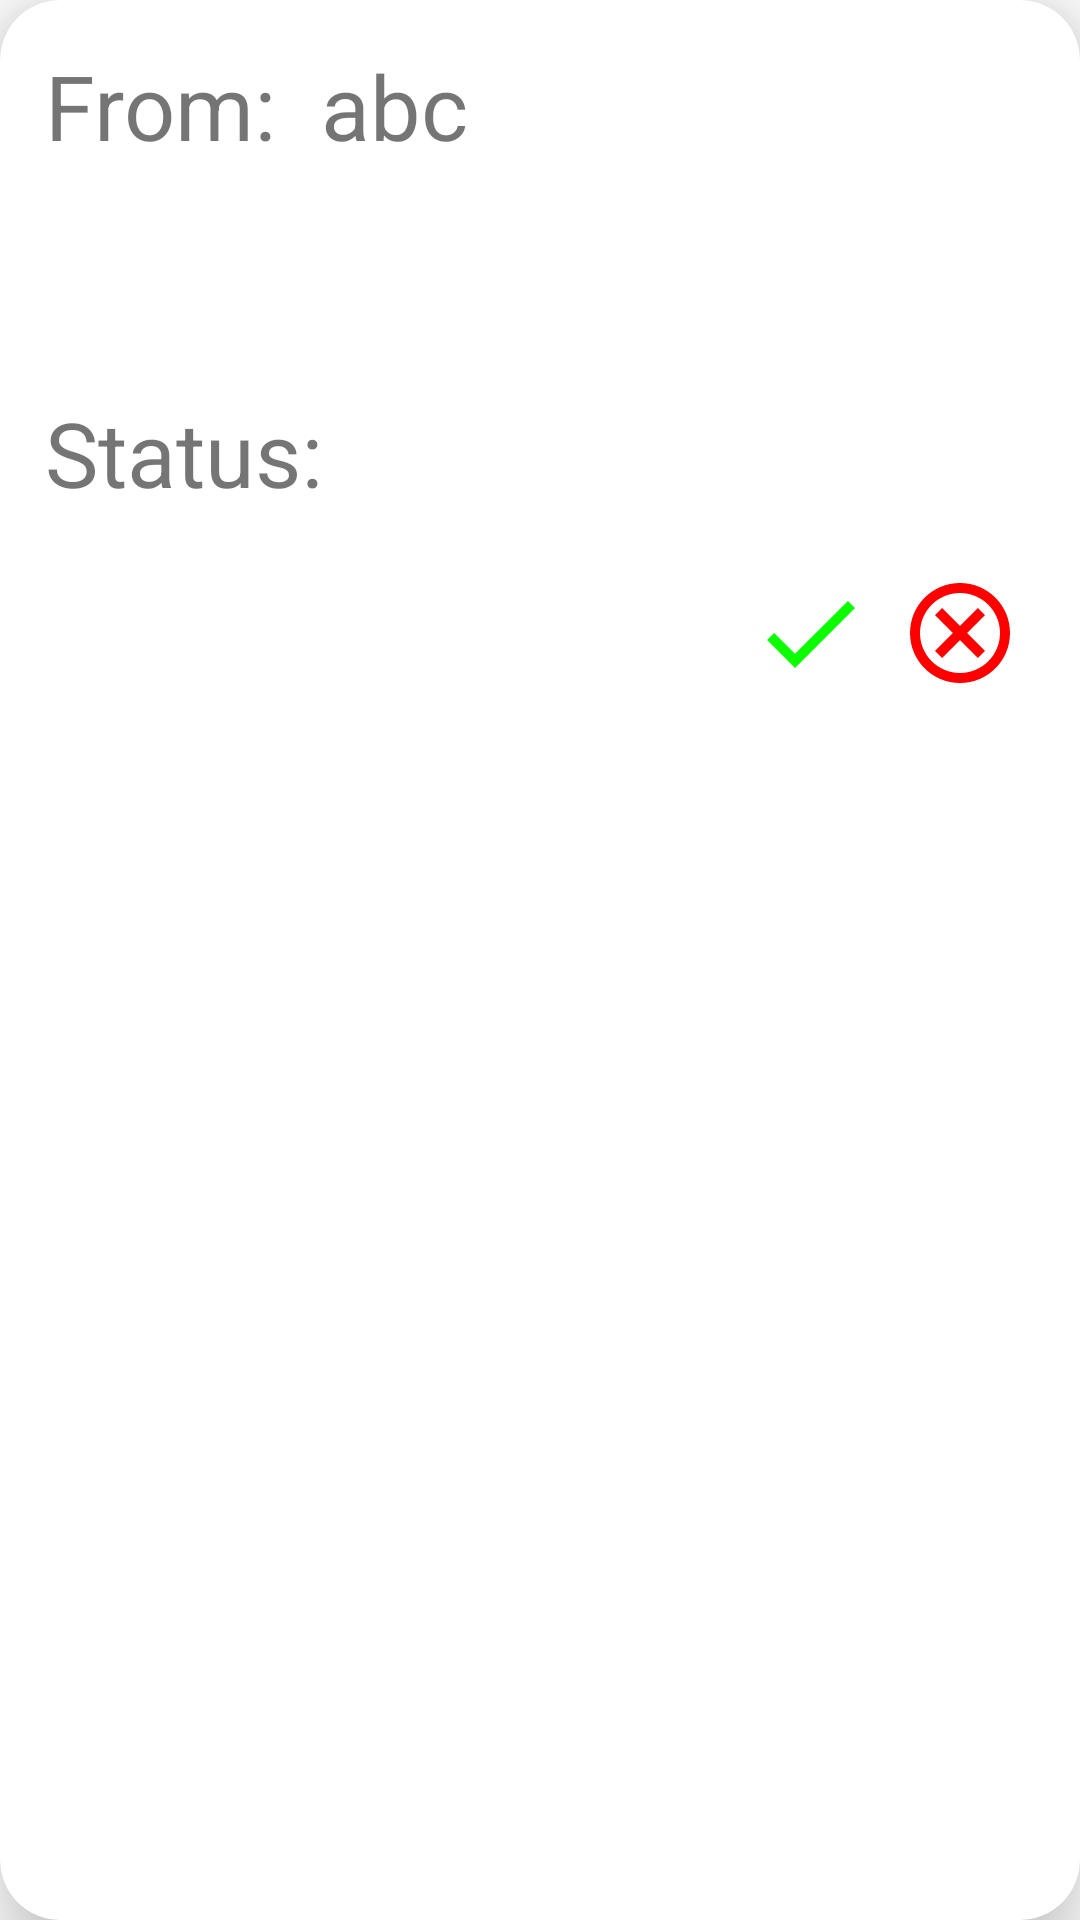

Where icons sit on this 1080*1920 app screen, as region(x1, y1, x2, y2):
approve request option: region(767, 601, 855, 668)
reject request: region(910, 583, 1010, 683)
